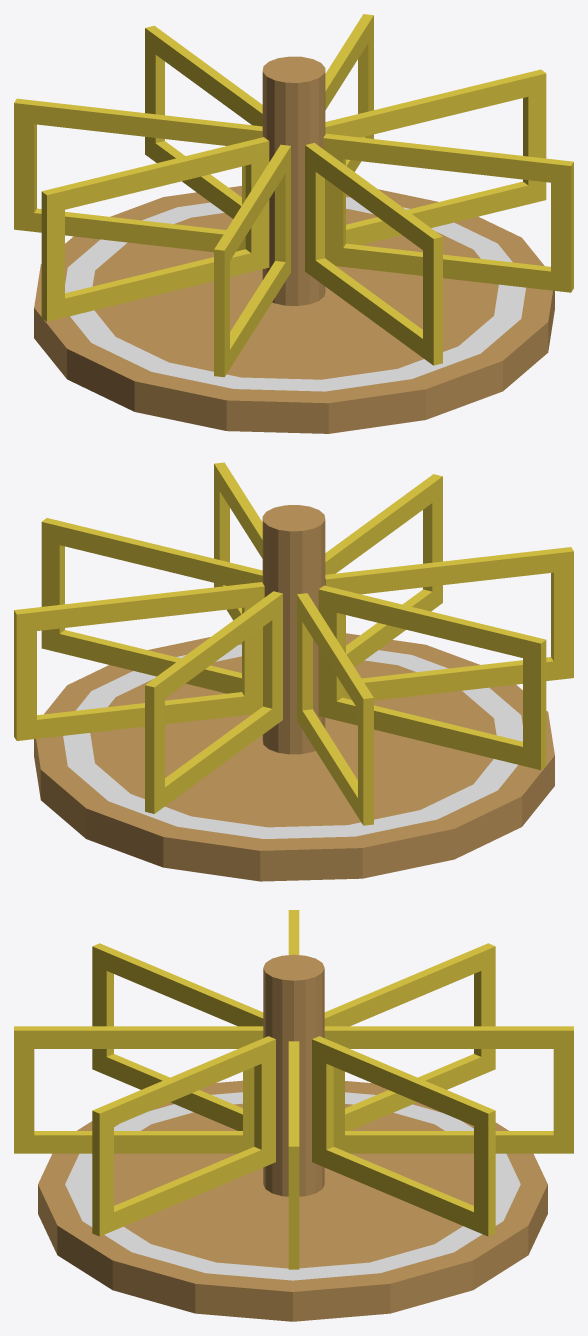
Rendered from low-poly-carousel.fbx.
The picture shows the model from 3 angles, top to bottom: view 1: azimuth 30°, elevation 25°; view 2: azimuth 150°, elevation 25°; view 3: azimuth 270°, elevation 25°; orthographic projection. The views are drawn at different scales.
Visible parts, largest first — view 1: Circle.023; view 2: Circle.023; view 3: Circle.023.
Part boxes in pixels (left/top/right/bottom): Circle.023: left=14, top=14, right=573, bottom=433; Circle.023: left=14, top=462, right=573, bottom=881; Circle.023: left=14, top=910, right=573, bottom=1321.
Bounding box in the file's own units: 717 × 408 × 717.
